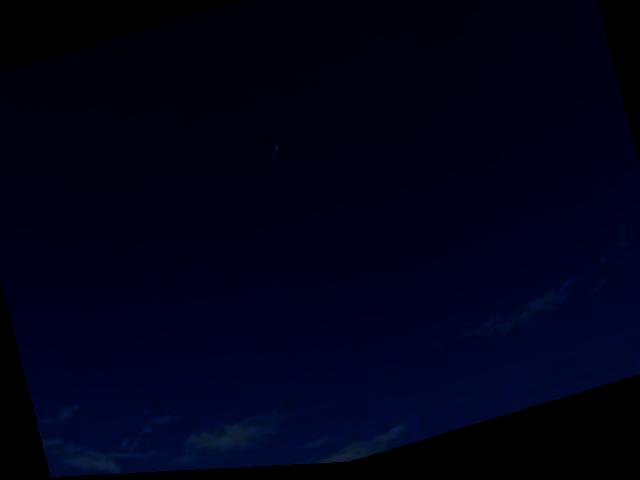uav: (258, 134, 292, 172)
